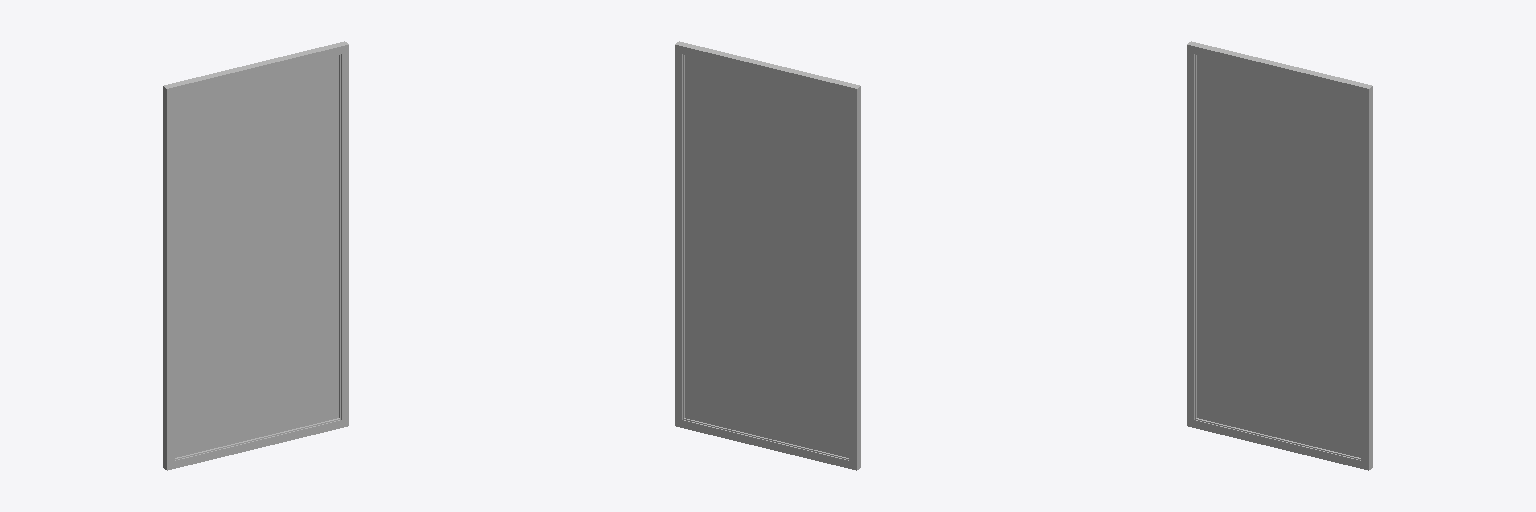
The model's file is janela.obj.
The picture shows the model from 3 angles: view 1: azimuth 30°, elevation 25°; view 2: azimuth 150°, elevation 25°; view 3: azimuth 330°, elevation 25°; orthographic projection.
Visible parts, largest first — view 1: Layer0_001; view 2: Layer0_001; view 3: Layer0_001.
Boxes of the visible parts, box(x1,y1,x2,y2) form: Layer0_001: box(163, 41, 348, 470); Layer0_001: box(675, 41, 860, 470); Layer0_001: box(1187, 41, 1372, 470).
Size of the model in its own units: 24 by 48 by 1.